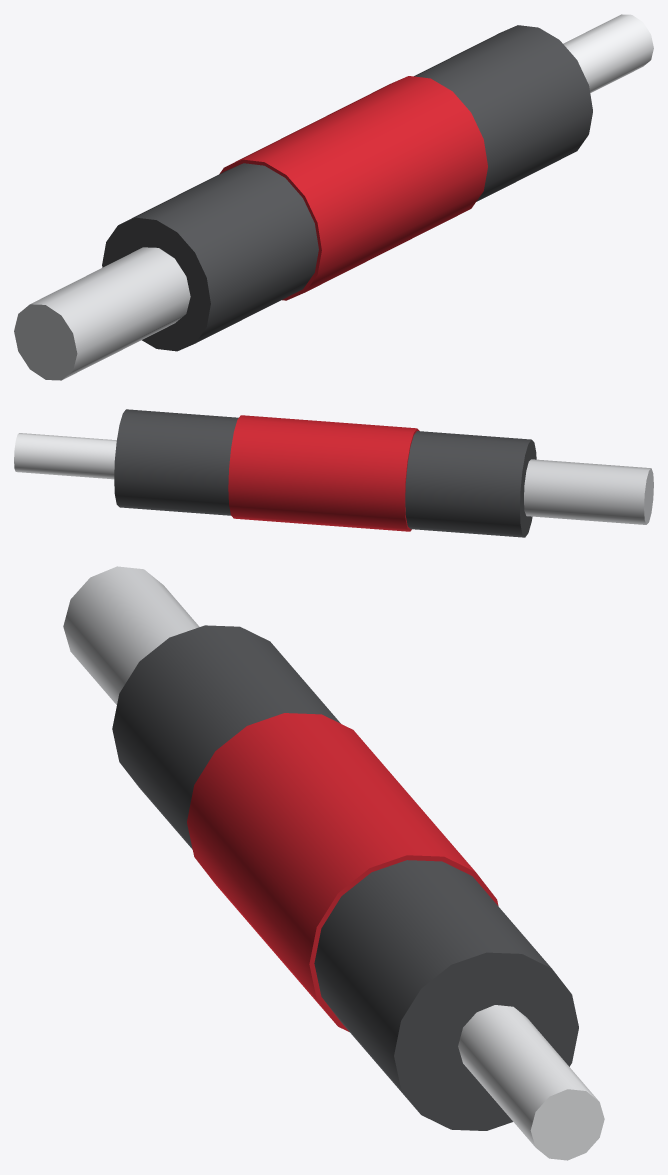
Rendered from acc_paste.glb.
3 renders of one model, top to bottom at view 1: azimuth 30°, elevation 25°; view 2: azimuth 150°, elevation 25°; view 3: azimuth 270°, elevation 25°, orthographic. The views are drawn at different scales.
Parts seen in each view (by area): view 1: Acc_ThermalPaste; view 2: Acc_ThermalPaste; view 3: Acc_ThermalPaste.
Boxes of the visible parts, bbox=[...] form: Acc_ThermalPaste: bbox=[14, 14, 653, 380]; Acc_ThermalPaste: bbox=[14, 409, 653, 537]; Acc_ThermalPaste: bbox=[63, 566, 604, 1160].
Size of the model in its own units: 0.6876 by 0.116 by 0.3023.
